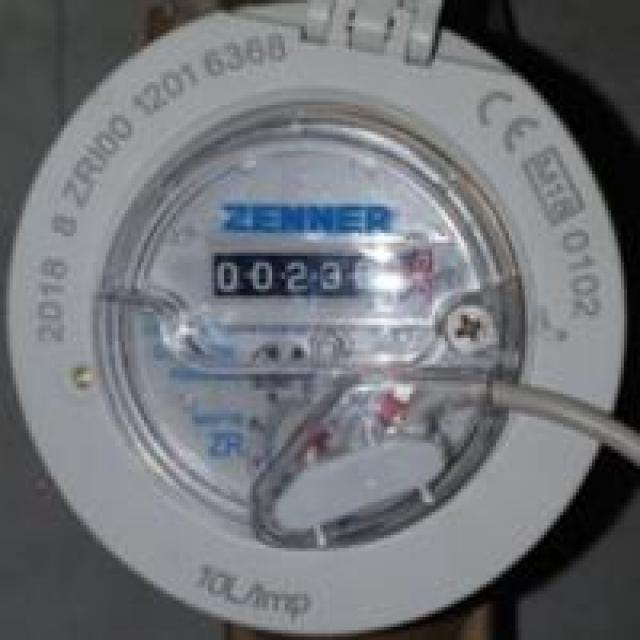gaz_meter: (99, 104, 526, 541)
indication: (203, 247, 380, 303)
